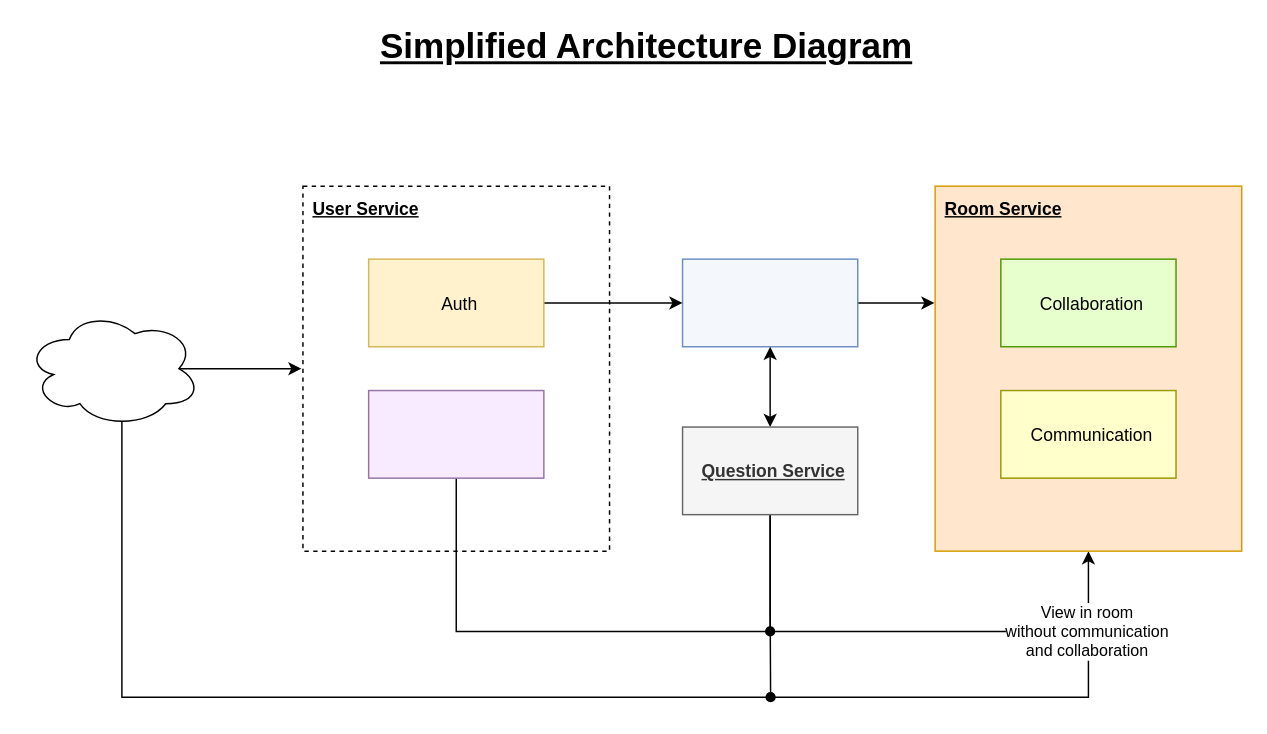
Some shapes in this 1267 by 734 pixel diagram are drawn without their labels. Here are the shapes that lost their labels. From the top down, the box of each, then its label:
(681, 258, 858, 347): Matching Service
(24, 309, 201, 427): Users
(367, 389, 544, 478): History
